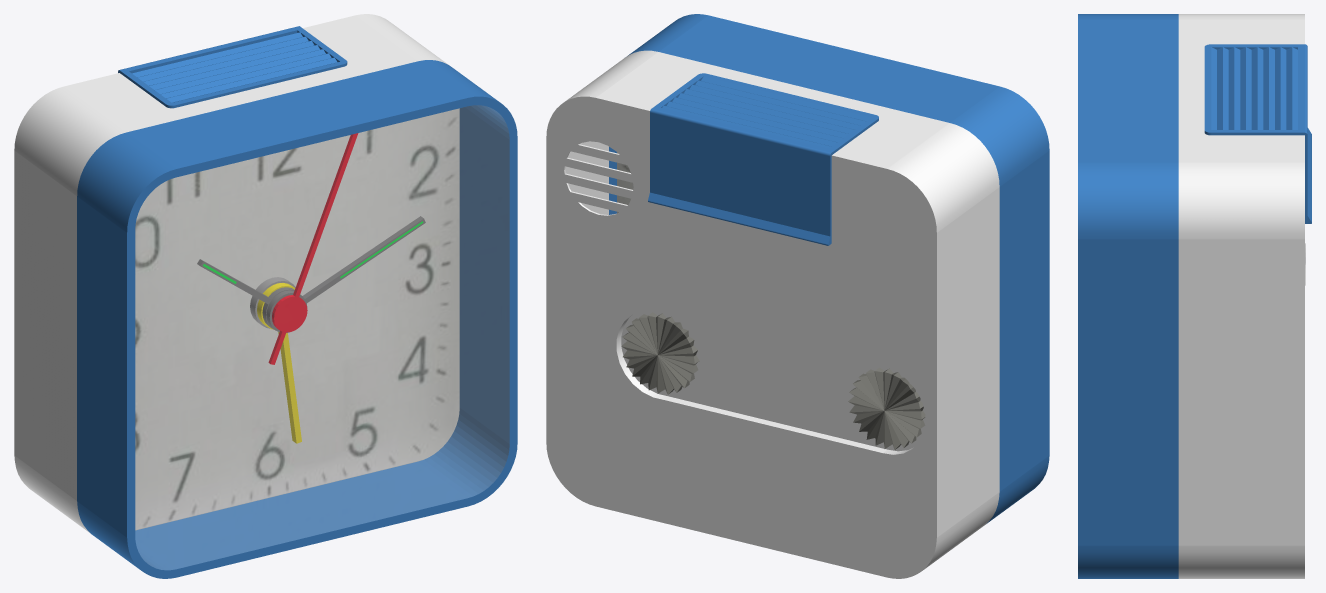
Rendered from Alarm_clock.obj.
The picture shows the model from 3 angles, left to right: view 1: azimuth 30°, elevation 25°; view 2: azimuth 150°, elevation 25°; view 3: azimuth 270°, elevation 25°; orthographic projection.
Visible parts, largest first — view 1: Mesh1 Model; view 2: Mesh1 Model; view 3: Mesh1 Model.
Boxes of the visible parts, x1=… form: Mesh1 Model: x1=14, y1=14, x2=517, y2=578; Mesh1 Model: x1=546, y1=14, x2=1049, y2=578; Mesh1 Model: x1=1078, y1=14, x2=1311, y2=578.
Bounding box in the file's own units: 2.18 × 2.19 × 1.12.
Materials: 11 (2 with a texture image).
